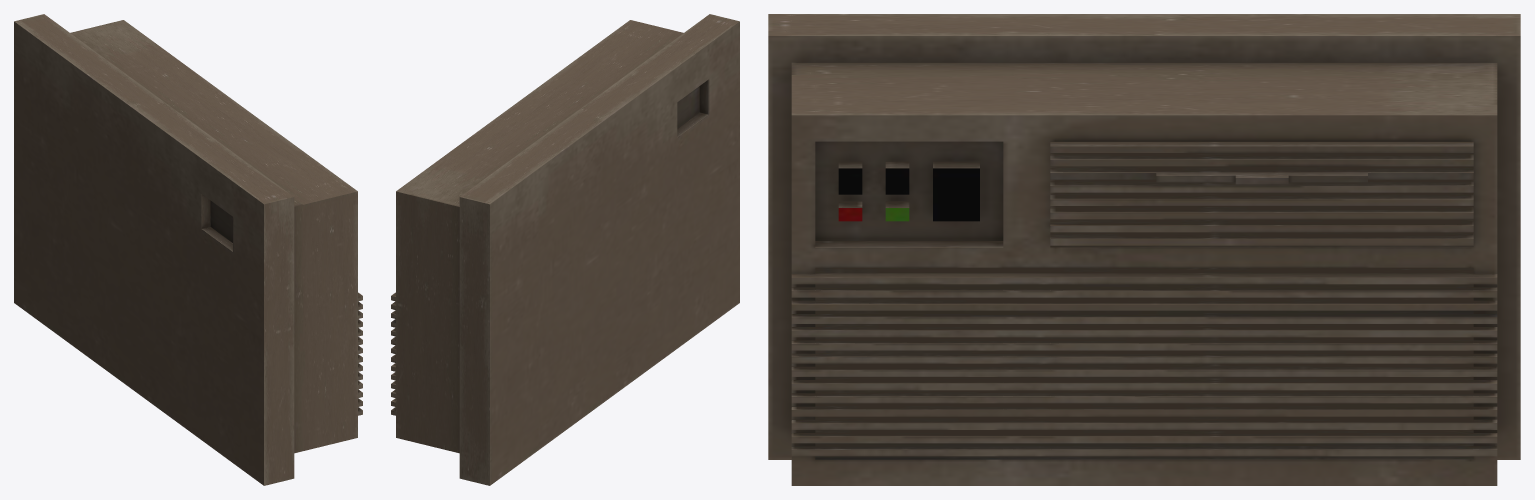
File: Vent.glb
3 renders of one model, left to right at view 1: azimuth 30°, elevation 25°; view 2: azimuth 150°, elevation 25°; view 3: azimuth 270°, elevation 25°, orthographic. The views are drawn at different scales.
Parts seen in each view (by area): view 1: BoxVent_Low; view 2: BoxVent_Low; view 3: BoxVent_Low.
Boxes of the visible parts, x1,y1,x2,y2 form: BoxVent_Low: (14,14,362,485); BoxVent_Low: (391,14,739,485); BoxVent_Low: (768,14,1520,485).
Size of the model in its own units: 4.04 by 9.5 by 15.28.
1 material, 1 textured.
